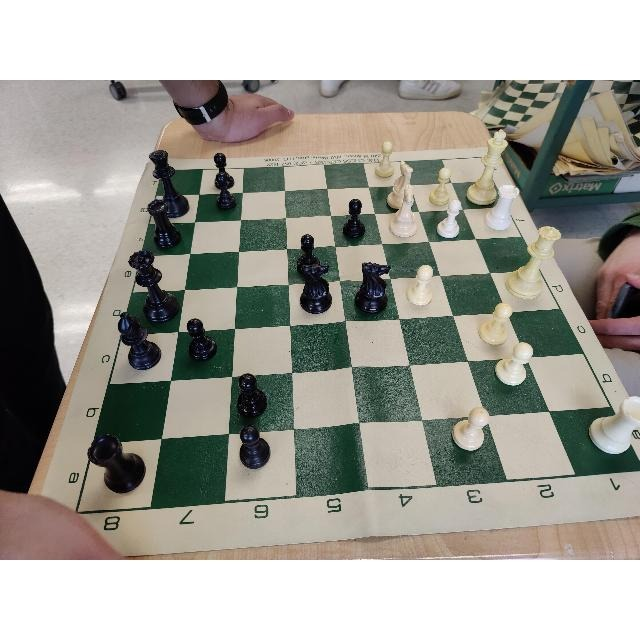black-bishop: (117, 311, 162, 371)
black-king: (149, 149, 190, 219)
black-knight: (353, 263, 391, 314), (301, 263, 333, 315)
black-pawn: (236, 372, 267, 418), (239, 425, 271, 469), (186, 318, 218, 362), (295, 234, 318, 278), (342, 199, 365, 237), (216, 171, 236, 210), (213, 153, 234, 189)
black-queen: (130, 249, 179, 325)
black-rook: (87, 434, 147, 494), (147, 198, 182, 250)
white-king: (466, 129, 508, 204)
white-knight: (389, 186, 419, 238), (387, 161, 413, 209)
white-pawn: (494, 342, 536, 386), (452, 407, 489, 453), (480, 303, 513, 345), (406, 265, 433, 307), (435, 199, 463, 238), (429, 167, 451, 205), (376, 141, 394, 177)
white-queen: (505, 225, 561, 299)
white-rook: (590, 395, 640, 453), (484, 182, 520, 229)
